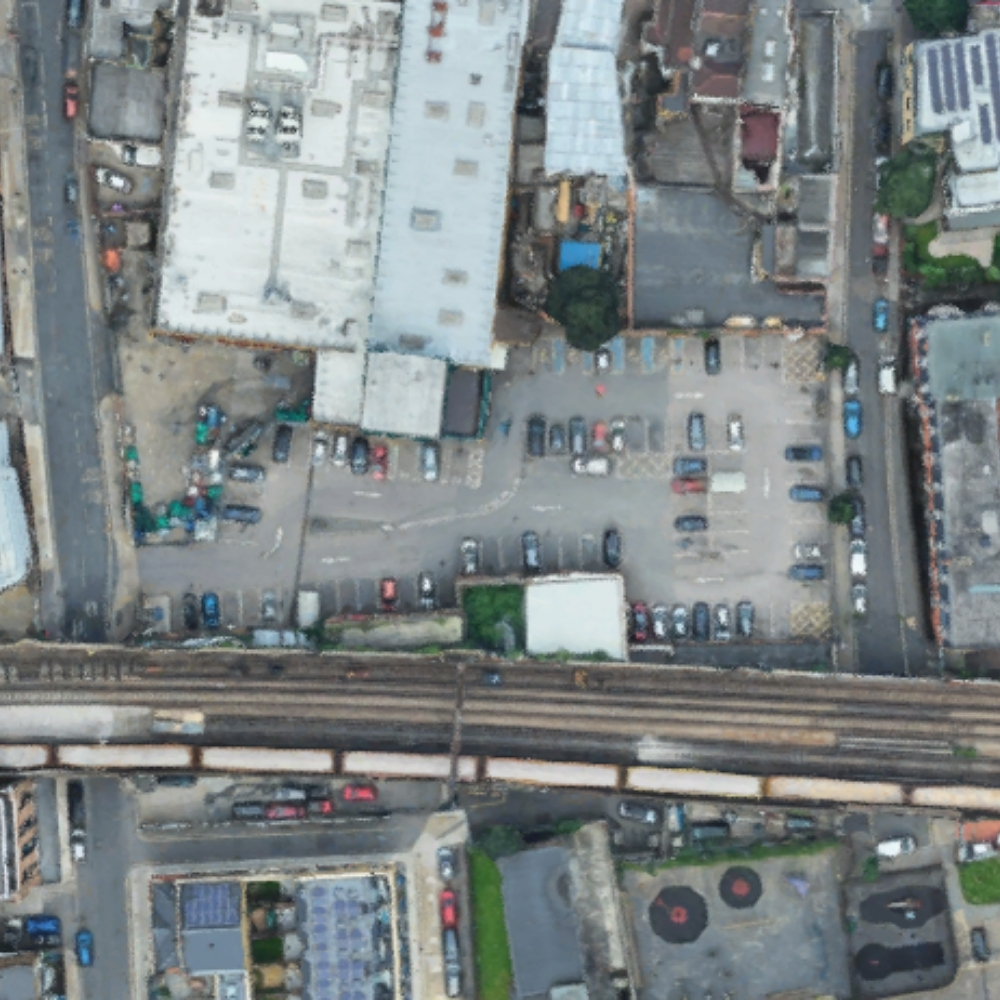parking: (130, 345, 830, 640)
